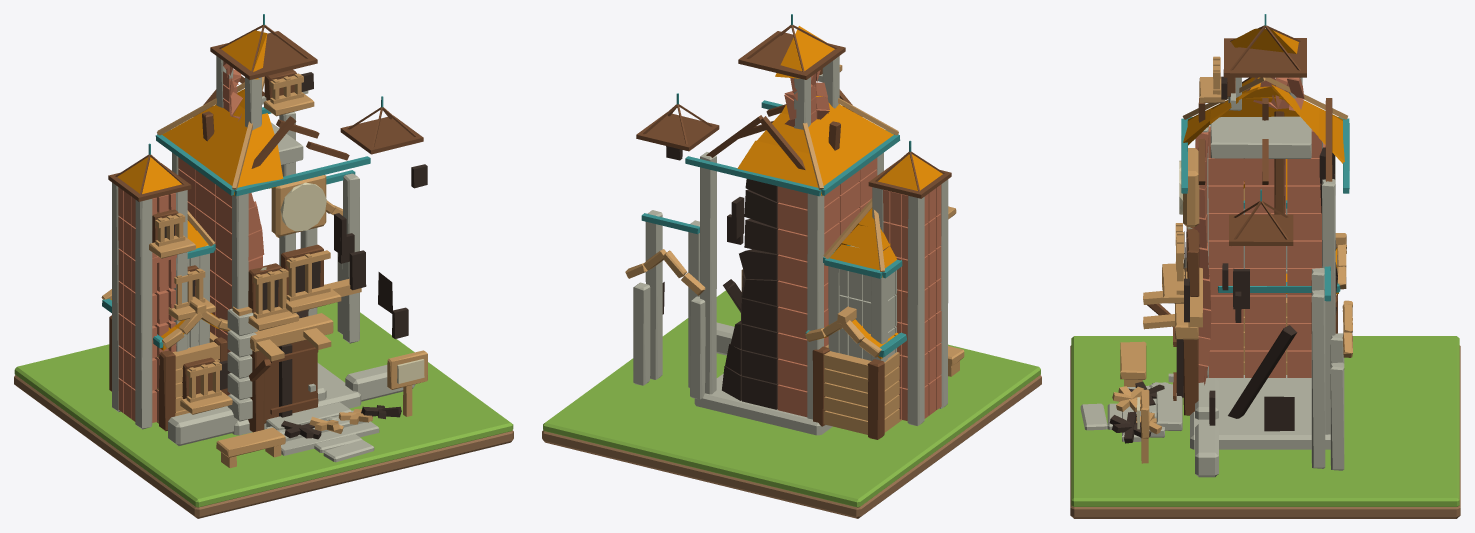
File: town_hall_l09_damaged_LOD1.glb
3 renders of one model, left to right at view 1: azimuth 30°, elevation 25°; view 2: azimuth 150°, elevation 25°; view 3: azimuth 270°, elevation 25°, orthographic. The views are drawn at different scales.
Parts seen in each view (by area): view 1: town_hall_l09_damaged_foundation.001, town_hall_l09_damaged_grass_tile.001, town_hall_l09_damaged_earth_tile.001, town_hall_l09_damaged_path_stone.005; view 2: town_hall_l09_damaged_foundation.001, town_hall_l09_damaged_grass_tile.001, town_hall_l09_damaged_earth_tile.001; view 3: town_hall_l09_damaged_foundation.001, town_hall_l09_damaged_grass_tile.001, town_hall_l09_damaged_earth_tile.001, town_hall_l09_damaged_path_stone.005.
Part boxes in pixels (<box>): town_hall_l09_damaged_foundation.001: <box>101,14,427,468</box>; town_hall_l09_damaged_grass_tile.001: <box>14,302,513,507</box>; town_hall_l09_damaged_earth_tile.001: <box>14,375,513,518</box>; town_hall_l09_damaged_path_stone.005: <box>323,439,374,462</box>; town_hall_l09_damaged_foundation.001: <box>625,14,964,439</box>; town_hall_l09_damaged_grass_tile.001: <box>543,290,1040,507</box>; town_hall_l09_damaged_earth_tile.001: <box>542,375,1041,518</box>; town_hall_l09_damaged_foundation.001: <box>1109,14,1352,477</box>; town_hall_l09_damaged_grass_tile.001: <box>1071,336,1459,506</box>; town_hall_l09_damaged_earth_tile.001: <box>1070,345,1460,518</box>; town_hall_l09_damaged_path_stone.005: <box>1080,403,1107,430</box>.
Bounding box in the file's own units: 3.6 × 4.31 × 3.6.
